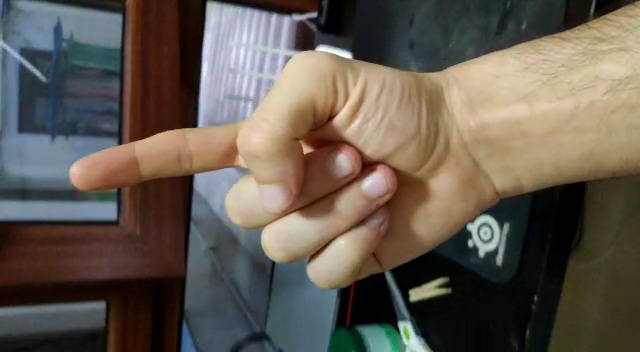One: (65, 115, 251, 198)
